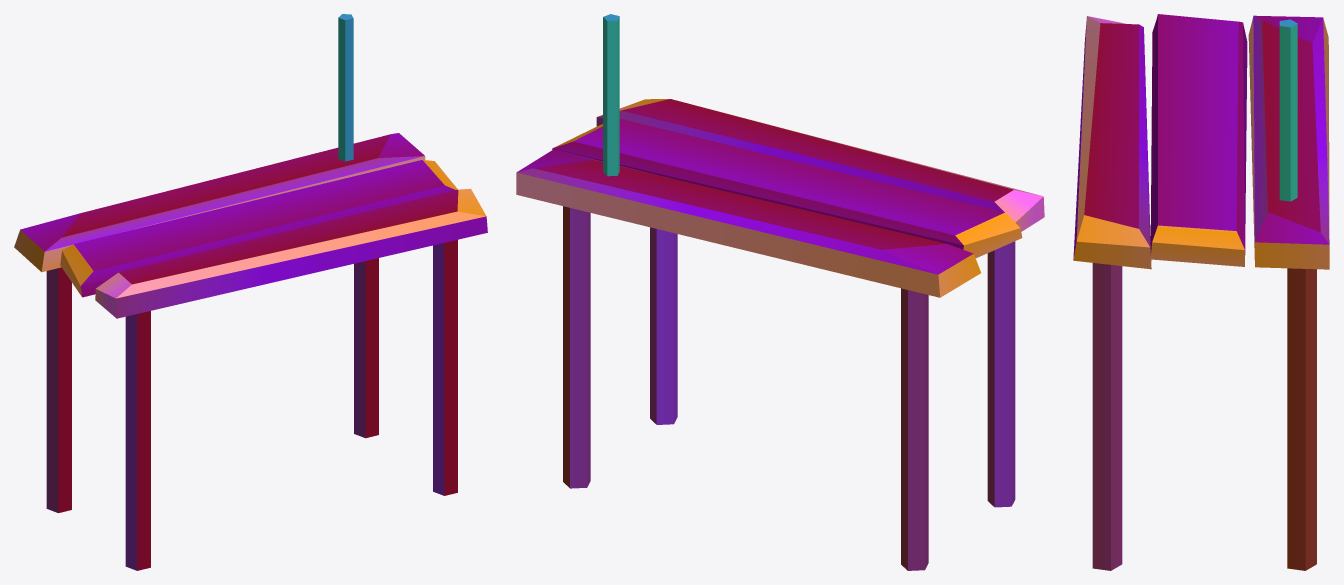
The model's file is AlchimistryTable.obj.
The picture shows the model from 3 angles, left to right: view 1: azimuth 30°, elevation 25°; view 2: azimuth 150°, elevation 25°; view 3: azimuth 270°, elevation 25°; orthographic projection. The views are drawn at different scales.
Parts seen in each view (by area): view 1: Cube.021; view 2: Cube.021; view 3: Cube.021.
Boxes of the visible parts, x1,y1,x2,y2 form: Cube.021: [14, 14, 487, 570]; Cube.021: [516, 14, 1044, 570]; Cube.021: [1073, 14, 1329, 570].
Bounding box in the file's own units: 2.91 × 3.03 × 1.34.
